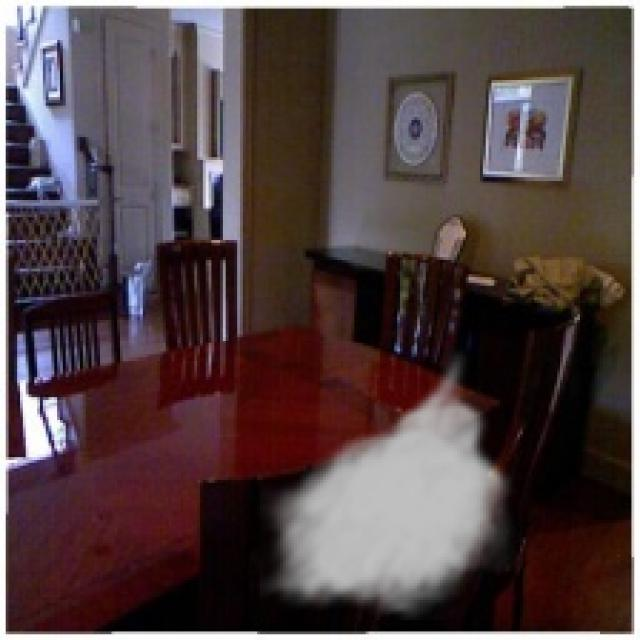smoke: (257, 346, 517, 620)
